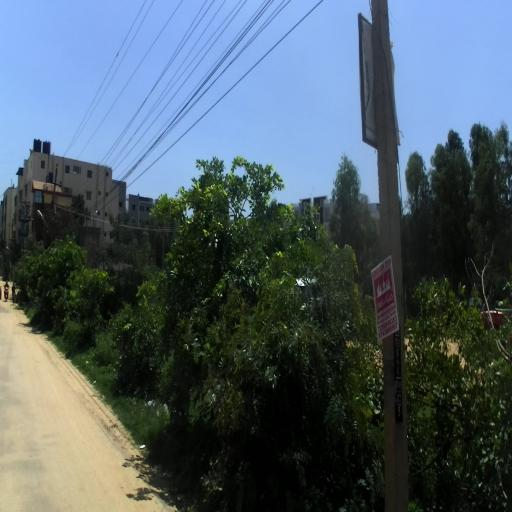street_light_0: (37, 210, 48, 228), (6, 247, 13, 255)
